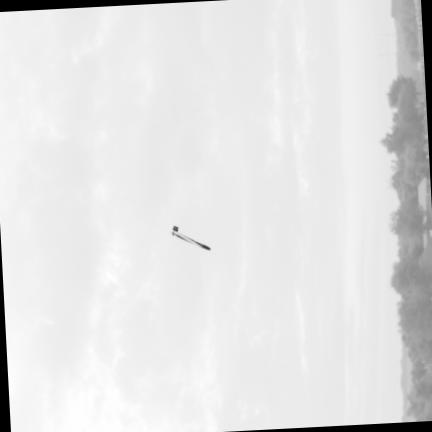Shahed: (171, 226, 210, 248)
